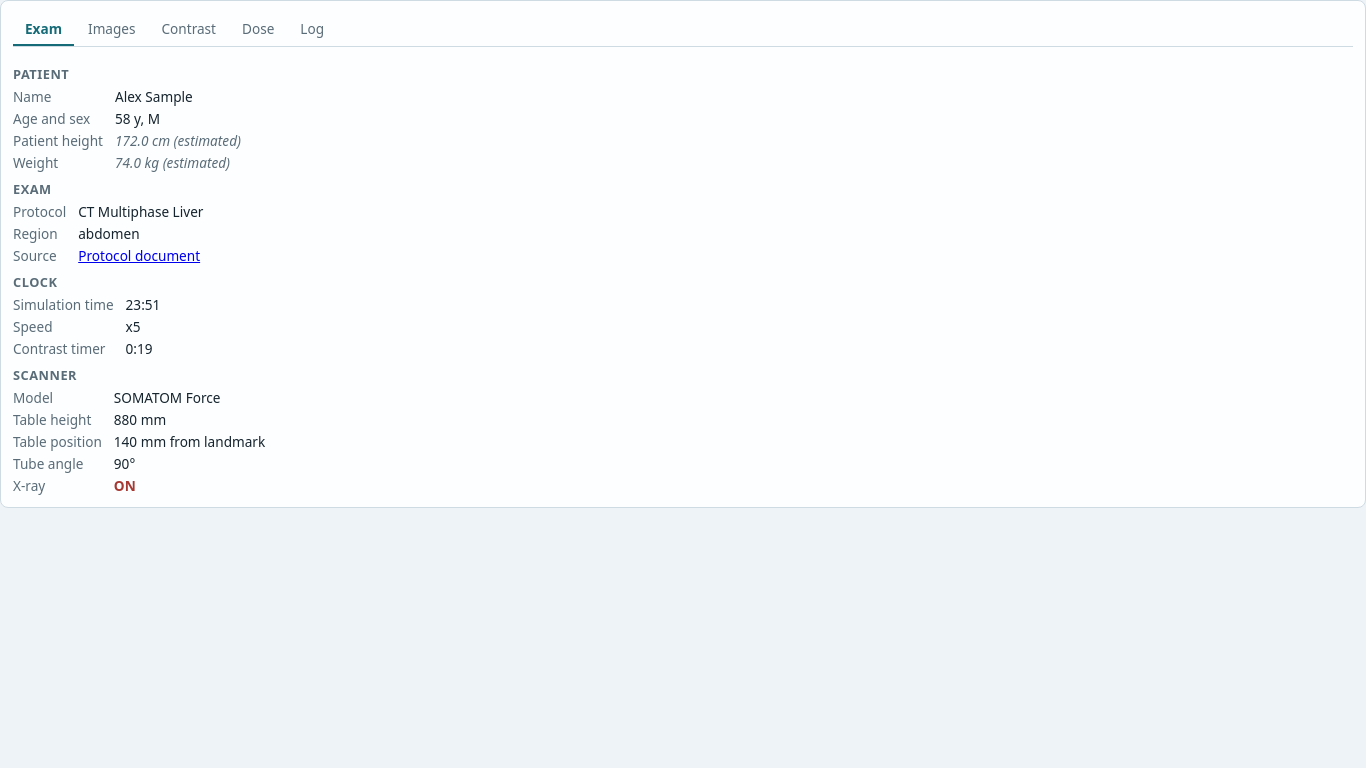
Test: ConsolePanel › the slice viewer says so for a series not yet acquired
Click the tab "Images".
click(112, 30)  # box x1=76 y1=13 x2=148 y2=46
(page scrolled)
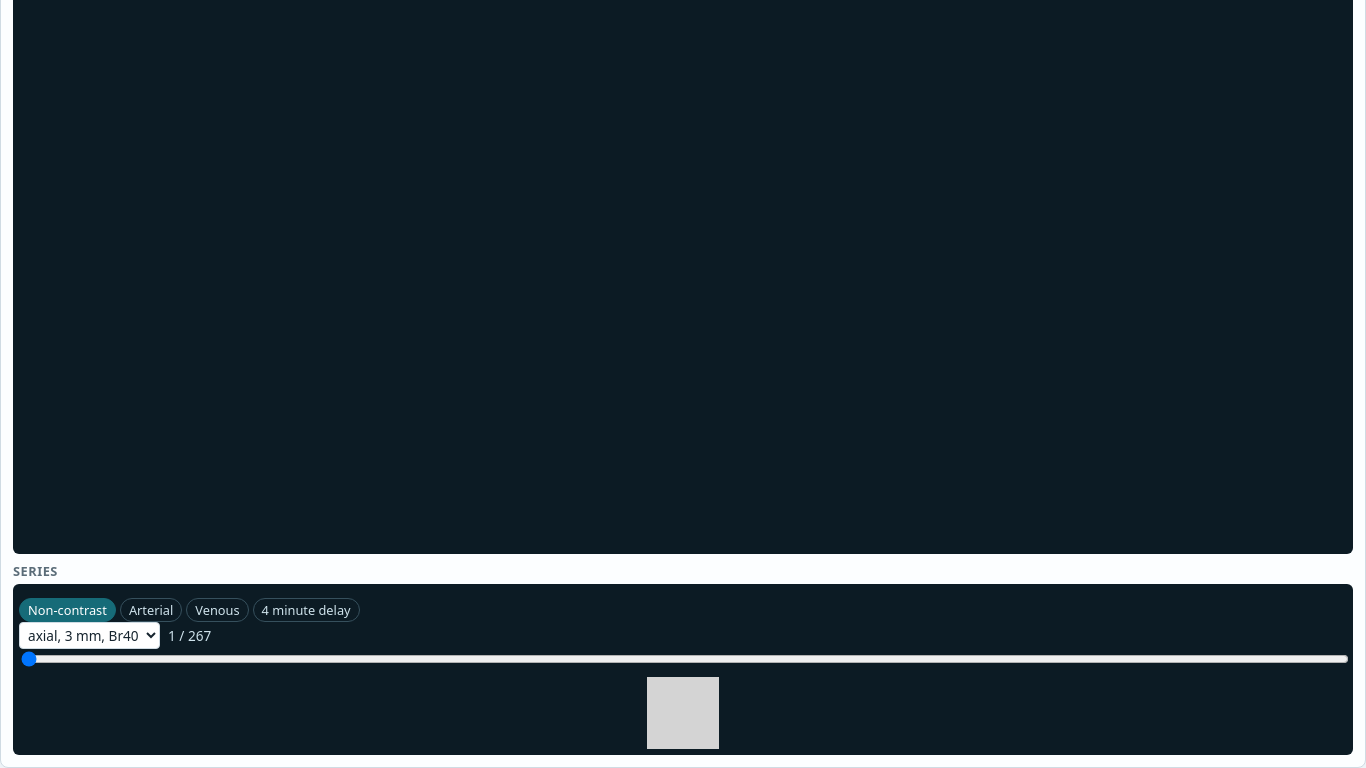
Click the tab "Arterial".
click(151, 610)  # box x1=120 y1=598 x2=182 y2=622
(page scrolled)
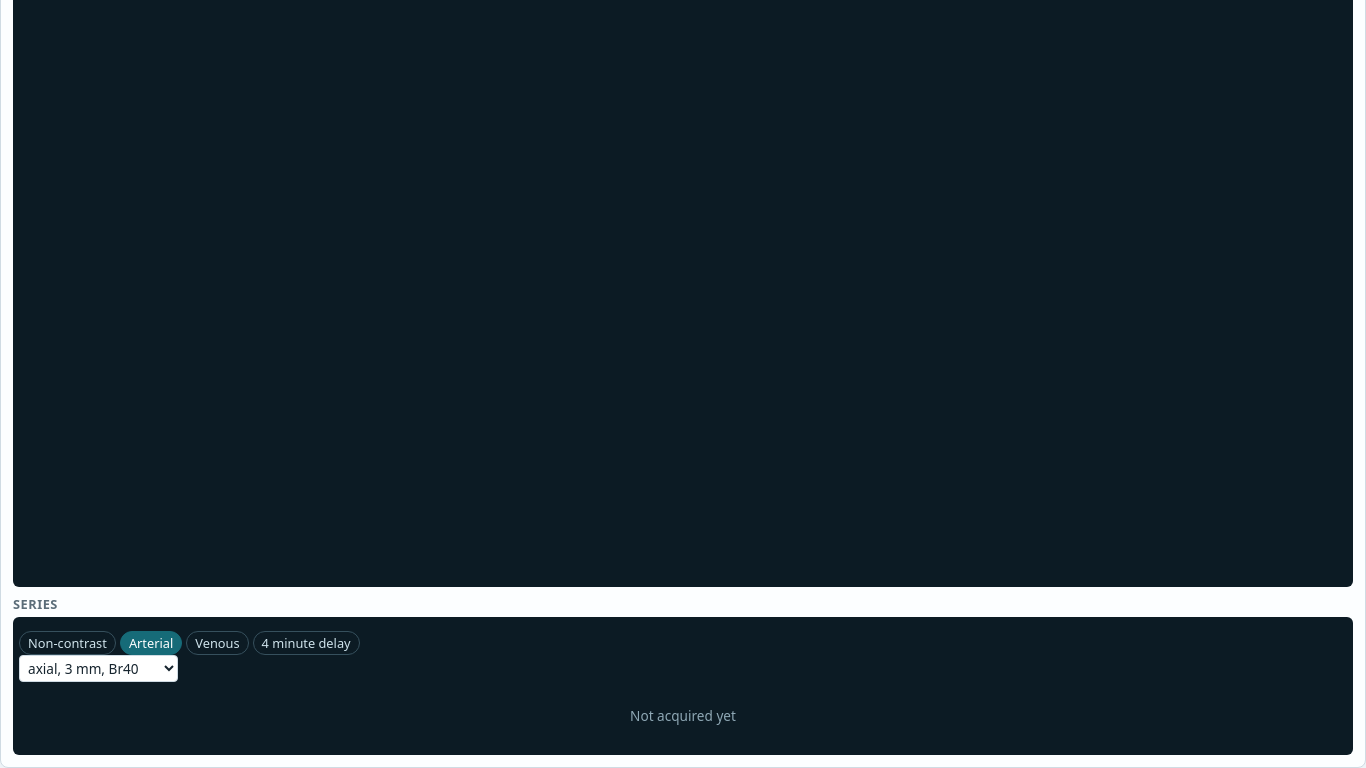
Expected: the text "Not acquired yet" is shown, x1=630 y1=706 x2=736 y2=725
